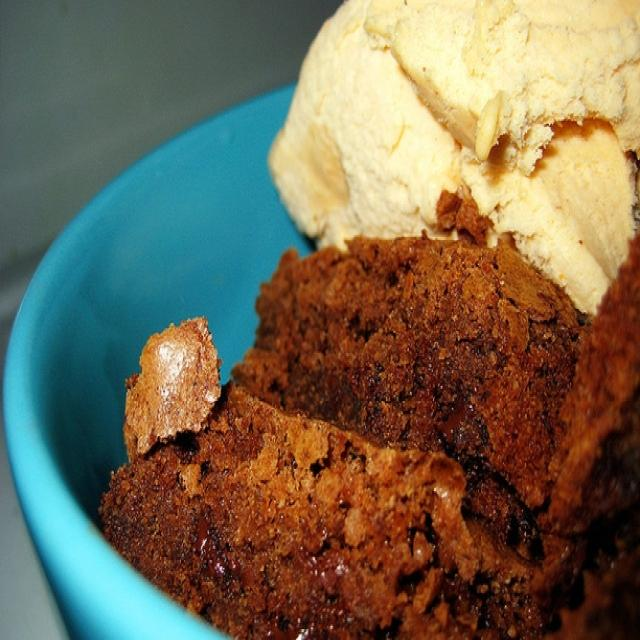蛋糕甜品: (3, 5, 638, 629)
